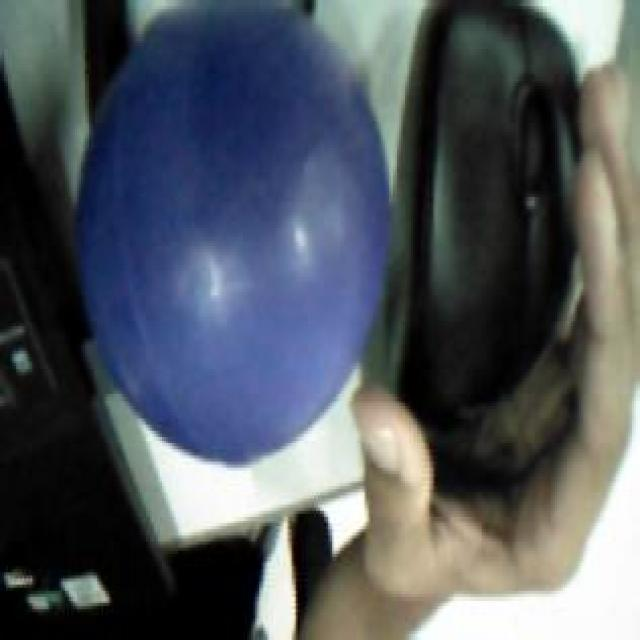BallPurple: (78, 2, 392, 464)
